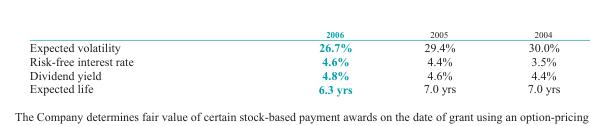table: (28, 29, 559, 95)
table column: (28, 29, 225, 95), (225, 29, 387, 95), (387, 29, 491, 95), (491, 29, 559, 95)
table column header: (28, 29, 559, 39)
table row: (28, 39, 559, 53), (28, 53, 559, 67), (28, 67, 559, 81), (28, 81, 559, 95), (28, 29, 559, 39)
